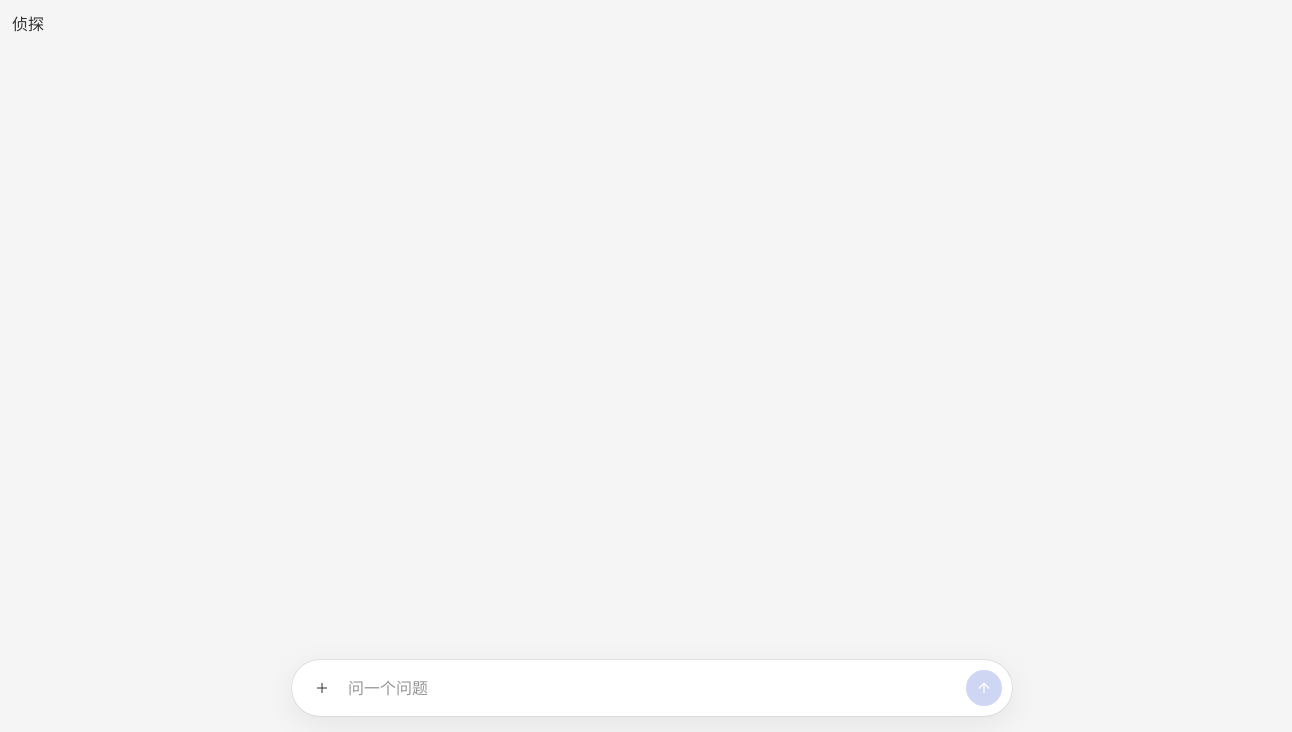
侦探输入口 › 普通比赛推荐不强制进入深度核验
Type "帮我找找最近含金量最高的比赛" into the text box named "问侦探".
click(653, 688); type("帮我找找最近含金量最高的比赛")  # box [348,670,958,706]
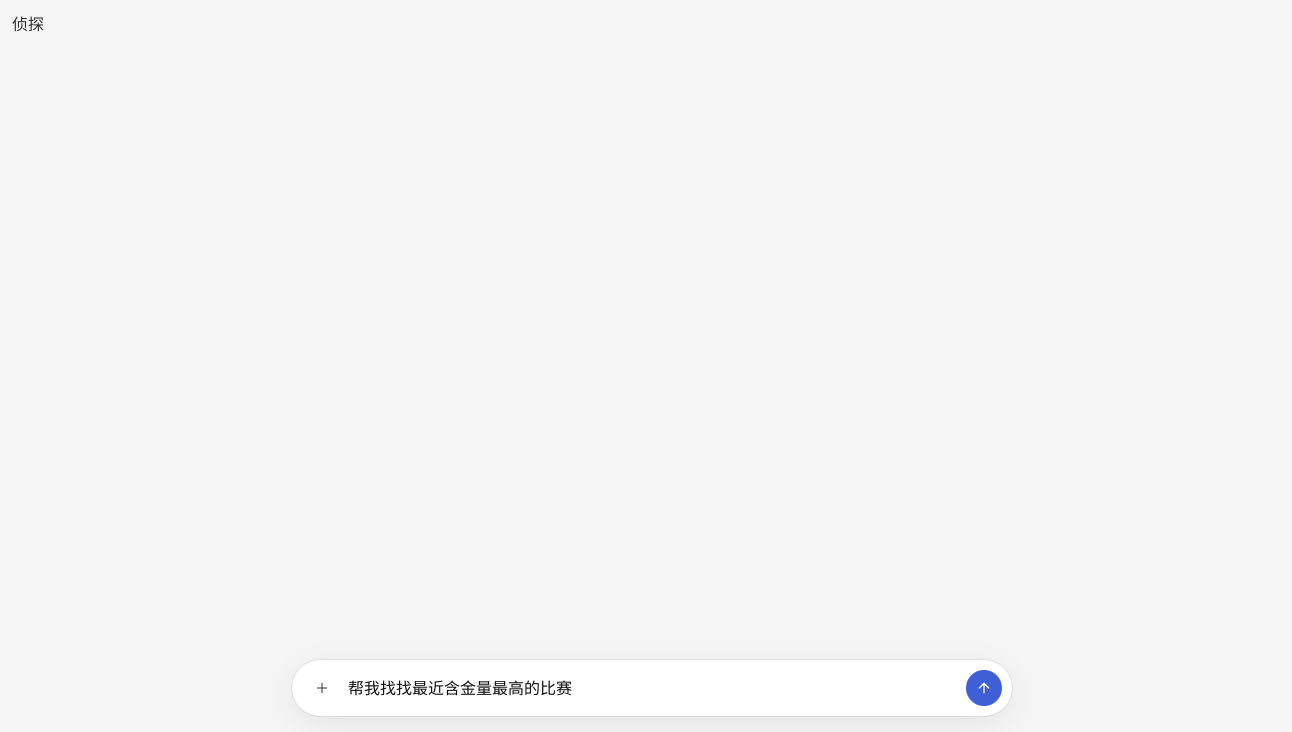
Press Enter in the text box named "问侦探", box [348,670,958,706]
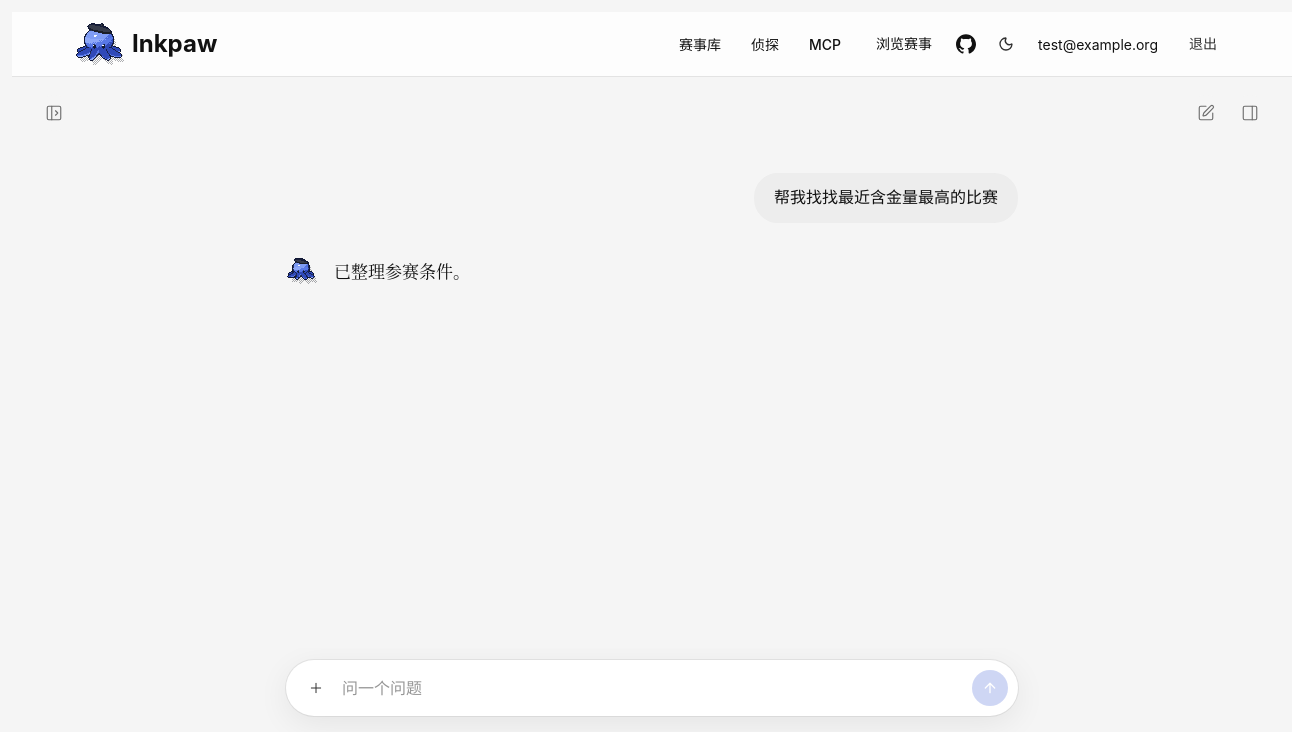
Check: the text "帮我找找最近含金量最高的比赛" is shown, box [754,173,1018,223]
